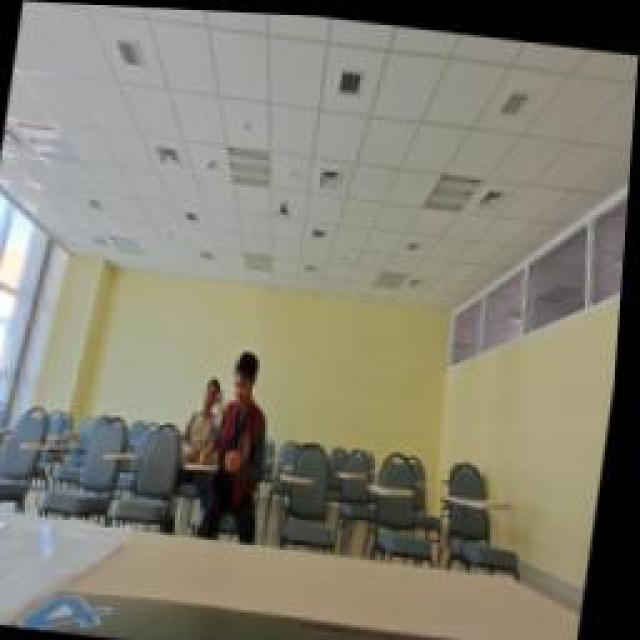study: (215, 342, 280, 470), (188, 370, 230, 452)
